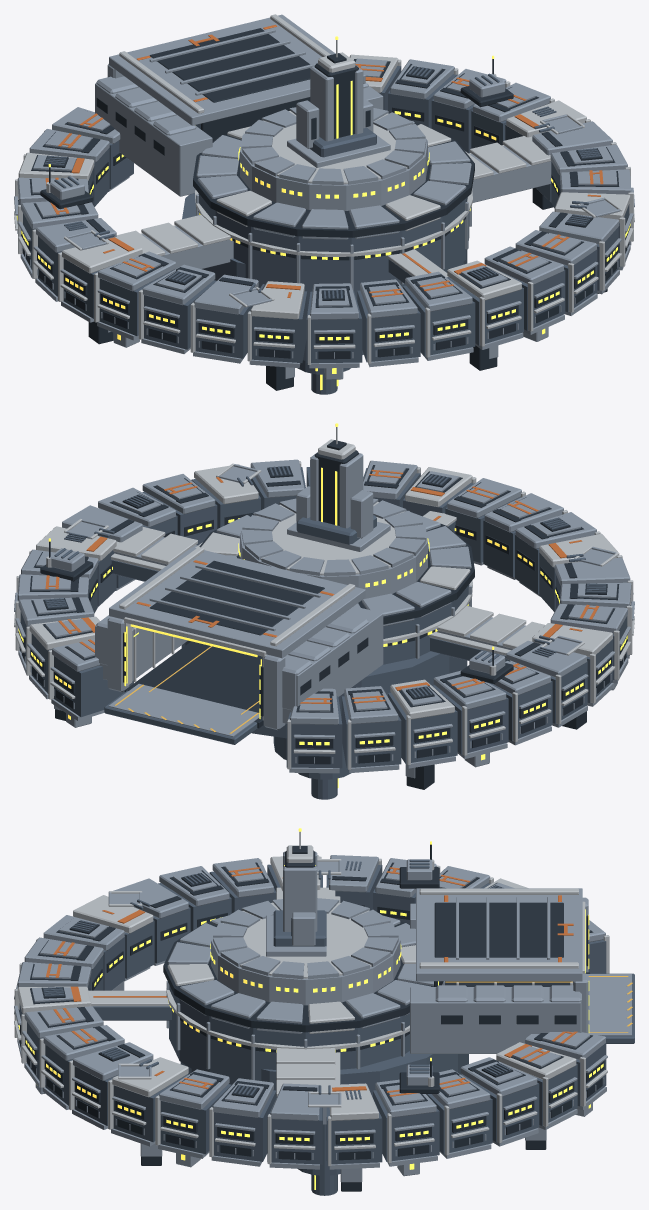
Rendered from exterior.glb.
The picture shows the model from 3 angles, top to bottom: view 1: azimuth 30°, elevation 25°; view 2: azimuth 150°, elevation 25°; view 3: azimuth 270°, elevation 25°; orthographic projection.
Parts seen in each view (by area): view 1: Hub pressure drum__StationExterior_ROOT, Hangar roof__StationExterior_ROOT, Hangar roof inset__StationExterior_ROOT, Hangar cheek -1__StationExterior_ROOT, Command drum__StationExterior_ROOT, Hub upper collar__StationExterior_ROOT, Radial service bridge 1__StationExterior_ROOT, Ring pressure hull 22, Detail hub rim 4.8__StationExterior_ROOT, Ring pressure hull 20, Detail hub rim 7.35__StationExterior_ROOT, Ring pressure hull 23 (+71 smaller); view 2: Hangar roof__StationExterior_ROOT, Hangar roof inset__StationExterior_ROOT, Hangar threshold deck__StationExterior_ROOT, Hangar cheek -1__StationExterior_ROOT, Detail threshold tread__StationExterior_ROOT, Lower hub__StationExterior_ROOT, Command drum__StationExterior_ROOT, Detail hub rim 4.8__StationExterior_ROOT, Ring pressure hull 05, Hub pressure drum__StationExterior_ROOT, Ring pressure hull 11, Ring pressure hull 12 (+74 smaller); view 3: Hangar cheek 1__StationExterior_ROOT, Hub pressure drum__StationExterior_ROOT, Hangar roof__StationExterior_ROOT, Hangar roof inset__StationExterior_ROOT, Command drum__StationExterior_ROOT, Hub upper collar__StationExterior_ROOT, Detail hub rim 4.8__StationExterior_ROOT, Detail threshold tread__StationExterior_ROOT, Lower hub__StationExterior_ROOT, Detail tower side armour 1__StationExterior_ROOT, Ring pressure hull 01, Ring pressure hull 30 (+69 smaller).
Part boxes in pixels (x1=…): Hub pressure drum__StationExterior_ROOT: x1=198, y1=193, x2=469, y2=300; Hangar roof__StationExterior_ROOT: x1=109, y1=14, x2=365, y2=125; Hangar roof inset__StationExterior_ROOT: x1=149, y1=28, x2=310, y2=102; Hangar cheek -1__StationExterior_ROOT: x1=95, y1=83, x2=212, y2=196; Command drum__StationExterior_ROOT: x1=240, y1=111, x2=427, y2=210; Hub upper collar__StationExterior_ROOT: x1=193, y1=122, x2=474, y2=237; Radial service bridge 1__StationExterior_ROOT: x1=470, y1=146, x2=551, y2=202; Ring pressure hull 22: x1=357, y1=290, x2=420, y2=362; Detail hub rim 4.8__StationExterior_ROOT: x1=254, y1=111, x2=411, y2=184; Ring pressure hull 20: x1=252, y1=291, x2=307, y2=362; Detail hub rim 7.35__StationExterior_ROOT: x1=195, y1=188, x2=472, y2=256; Ring pressure hull 23: x1=403, y1=285, x2=475, y2=356; Hangar roof__StationExterior_ROOT: x1=109, y1=547, x2=365, y2=658; Hangar roof inset__StationExterior_ROOT: x1=150, y1=560, x2=324, y2=635; Hangar threshold deck__StationExterior_ROOT: x1=124, y1=641, x2=263, y2=728; Hangar cheek -1__StationExterior_ROOT: x1=282, y1=606, x2=383, y2=723; Detail threshold tread__StationExterior_ROOT: x1=108, y1=683, x2=260, y2=736; Lower hub__StationExterior_ROOT: x1=181, y1=640, x2=467, y2=738; Command drum__StationExterior_ROOT: x1=240, y1=526, x2=427, y2=599; Detail hub rim 4.8__StationExterior_ROOT: x1=247, y1=502, x2=413, y2=575; Ring pressure hull 05: x1=54, y1=656, x2=133, y2=717; Hub pressure drum__StationExterior_ROOT: x1=383, y1=584, x2=469, y2=664; Ring pressure hull 11: x1=341, y1=696, x2=401, y2=767; Ring pressure hull 12: x1=388, y1=692, x2=457, y2=763; Hangar cheek 1__StationExterior_ROOT: x1=410, y1=987, x2=580, y2=1053; Hub pressure drum__StationExterior_ROOT: x1=169, y1=985, x2=409, y2=1084; Hangar roof__StationExterior_ROOT: x1=416, y1=888, x2=582, y2=981; Hangar roof inset__StationExterior_ROOT: x1=434, y1=902, x2=563, y2=957; Command drum__StationExterior_ROOT: x1=211, y1=936, x2=400, y2=1005; Hub upper collar__StationExterior_ROOT: x1=163, y1=921, x2=443, y2=1032; Detail hub rim 4.8__StationExterior_ROOT: x1=222, y1=902, x2=389, y2=978; Detail threshold tread__StationExterior_ROOT: x1=571, y1=974, x2=631, y2=1035; Lower hub__StationExterior_ROOT: x1=180, y1=1051, x2=468, y2=1137; Detail tower side armour 1__StationExterior_ROOT: x1=283, y1=866, x2=317, y2=931; Ring pressure hull 01: x1=373, y1=1090, x2=439, y2=1161; Ring pressure hull 30: x1=214, y1=1090, x2=276, y2=1161.
Bounding box in the file's own units: 32.75 × 21.02 × 32.73.
